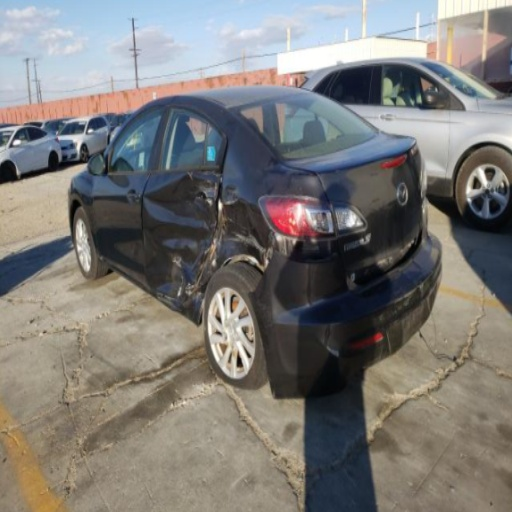scratch: (345, 261, 438, 347)
